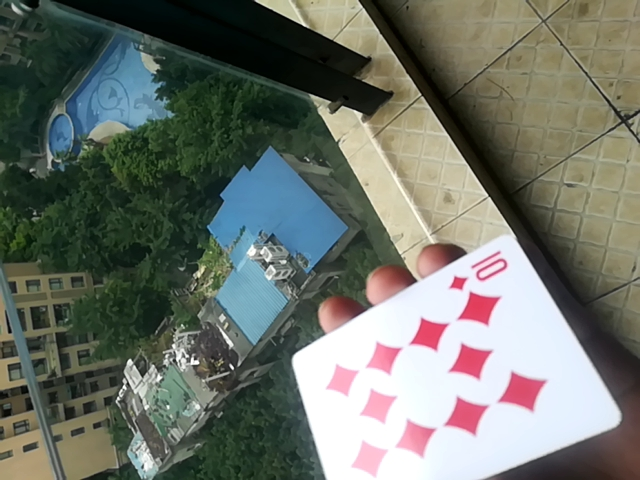fk 10: (292, 236, 621, 480)
